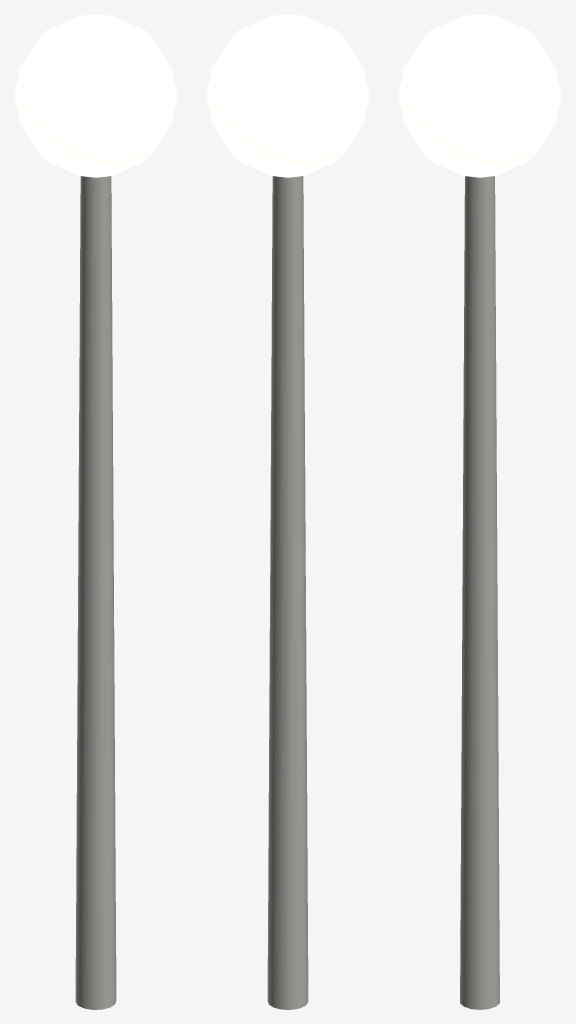
File: Lampball.glb
The picture shows the model from 3 angles, left to right: view 1: azimuth 30°, elevation 25°; view 2: azimuth 150°, elevation 25°; view 3: azimuth 270°, elevation 25°; orthographic projection.
Parts seen in each view (by area): view 1: model; view 2: model; view 3: model.
Boxes of the visible parts, box(x1,y1,x2,y2) form: model: box(14, 14, 177, 1009); model: box(206, 14, 369, 1009); model: box(398, 14, 561, 1009).
Bounding box in the file's own units: 0.64 × 4.22 × 0.64.
